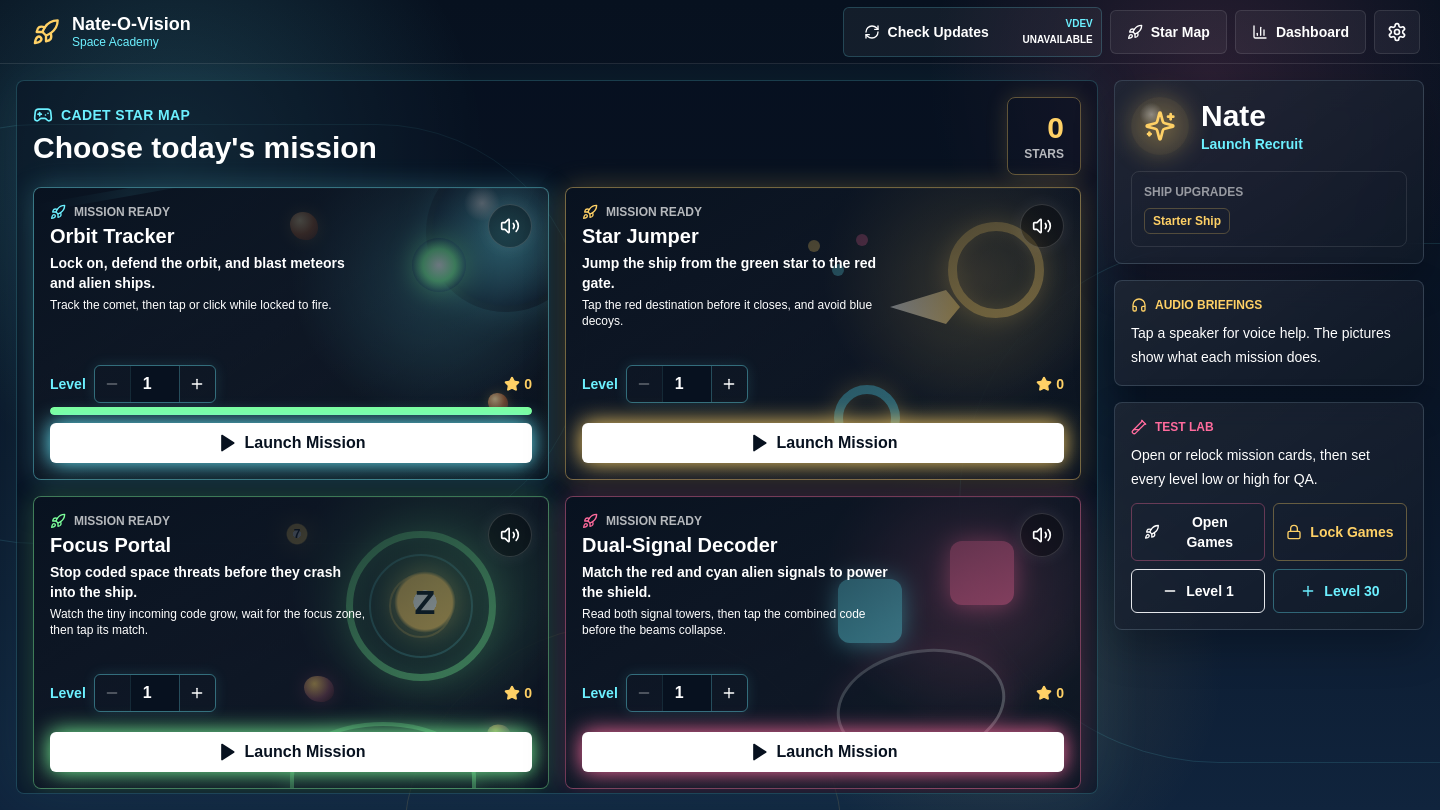
Test: App › shows the mission summary when ending a mission
This screenshot has width=1440, height=810.
Step 1. Click the button named "Launch Mission: Orbit Tracker" → (291, 443), box [50, 423, 532, 463]
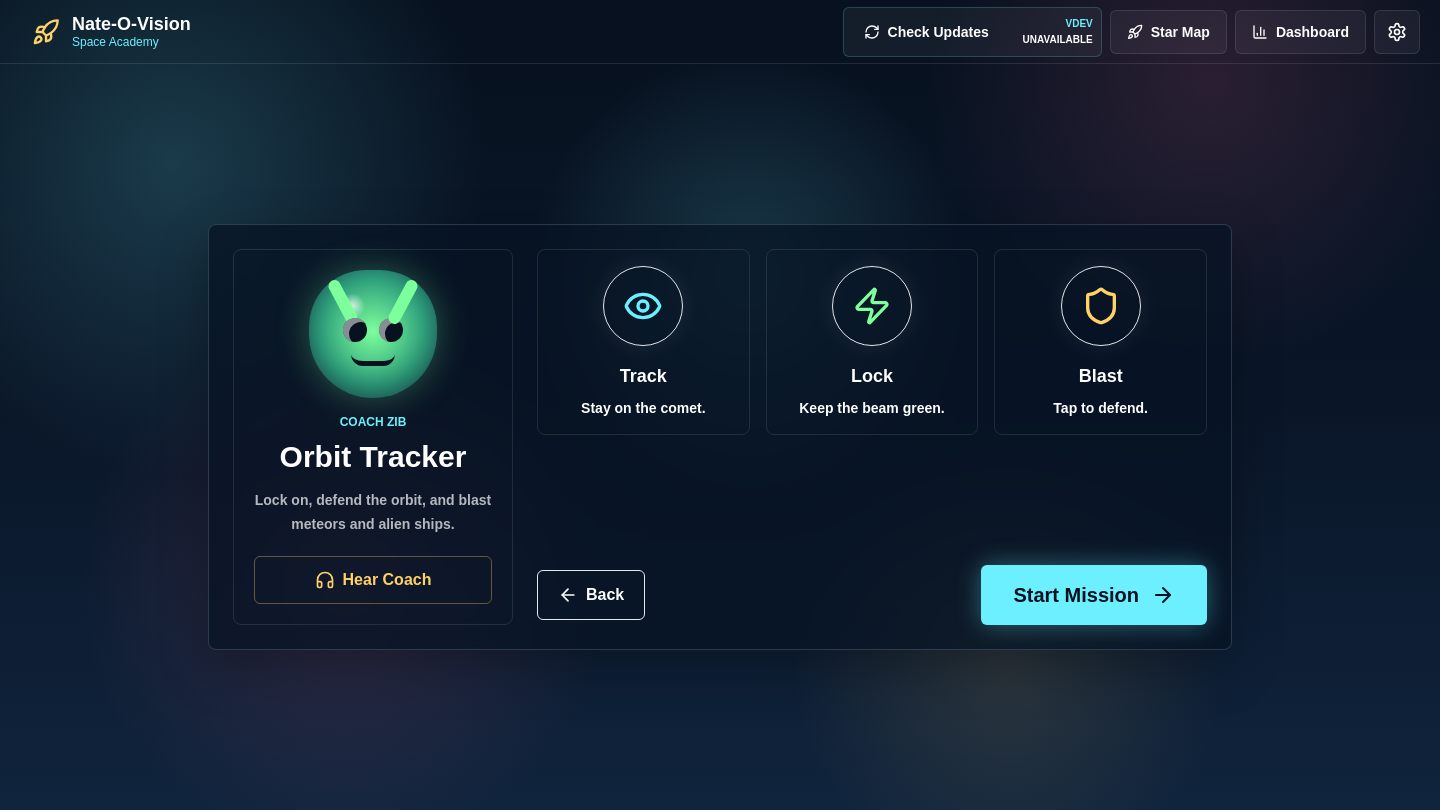
Step 2. Click the button named "Start Mission: Orbit Tracker" → (1094, 595), box [981, 565, 1207, 625]
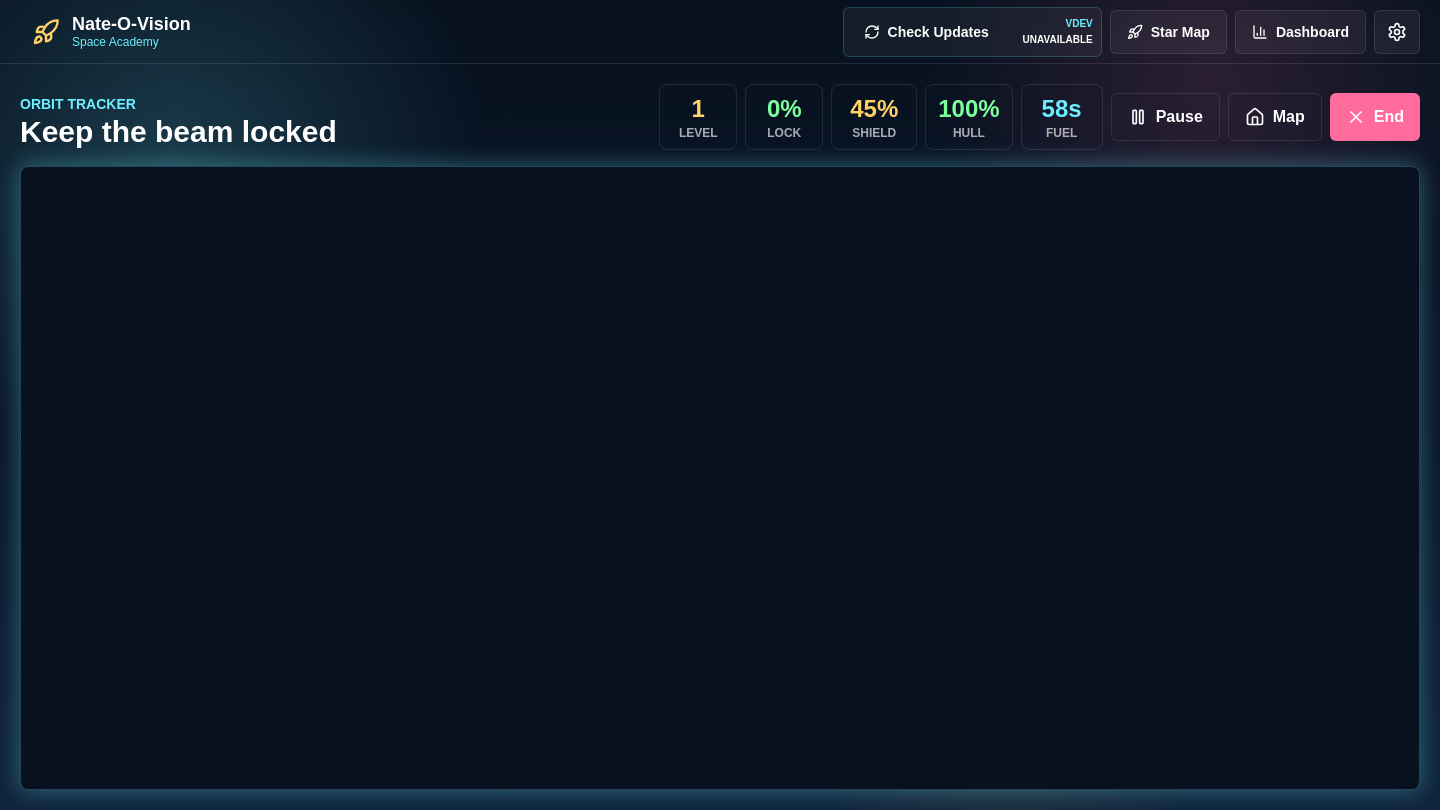
Step 3. Click the button "End" → (1375, 117), box [1330, 93, 1420, 141]
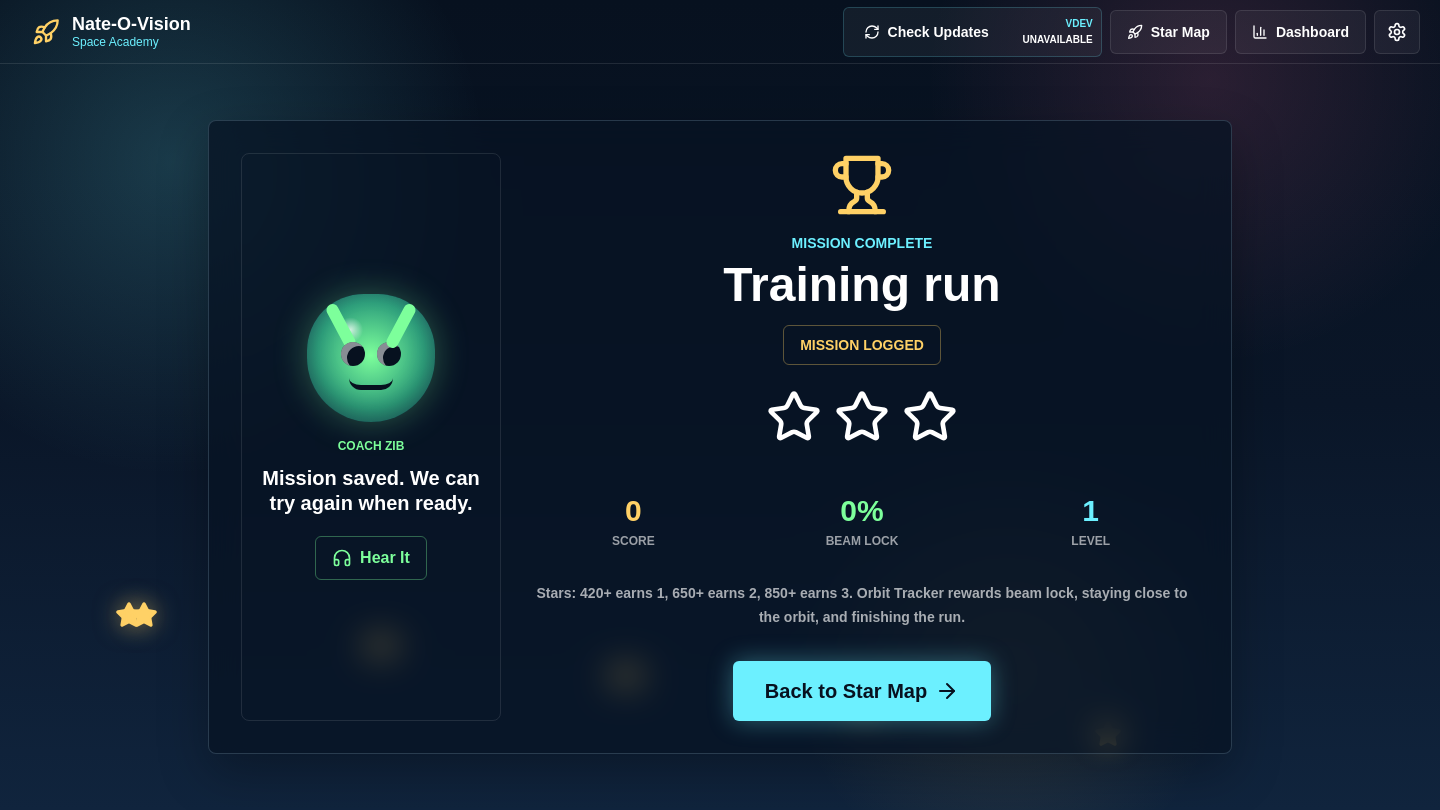
Check: the text "Mission Complete" is shown, box [792, 235, 932, 251]
Check: the text "Mission Logged" is shown, box [783, 325, 941, 365]
